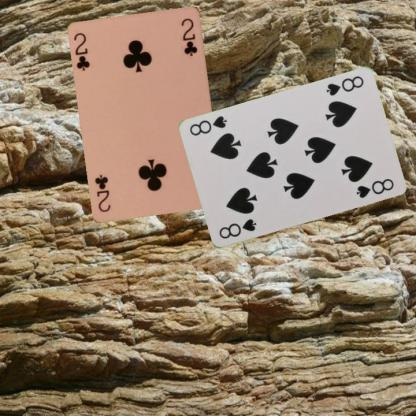2c: (71, 31, 92, 72)
8s: (216, 216, 258, 240), (324, 73, 364, 98)
